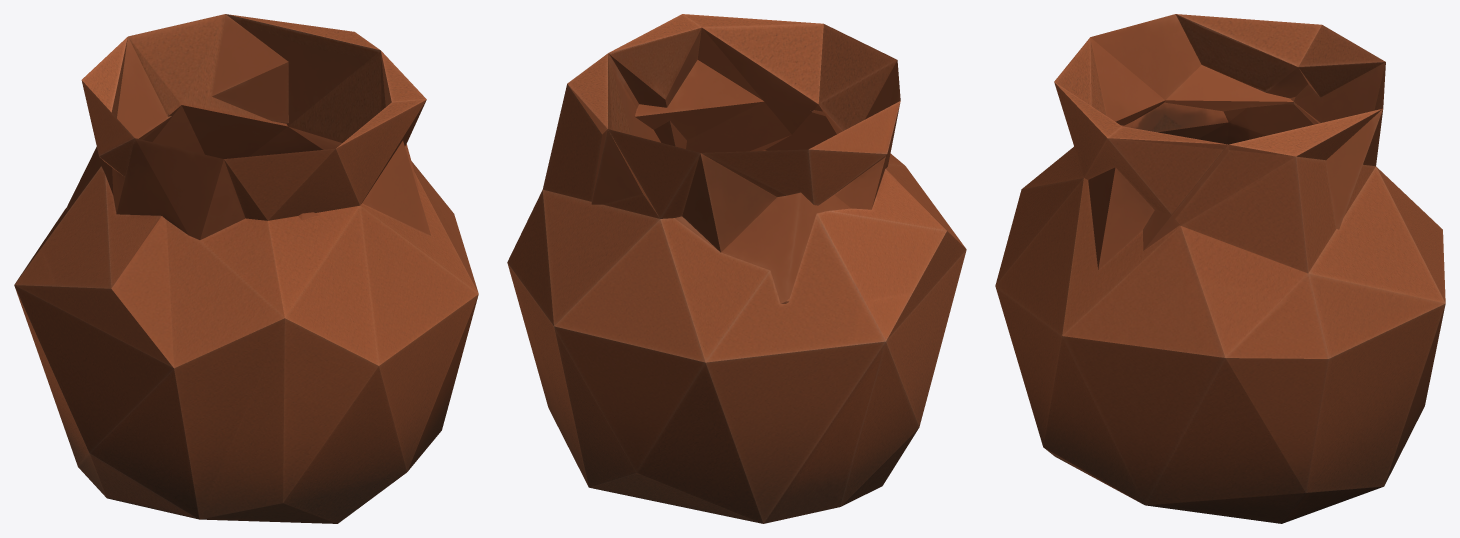
File: Meshy_AI_Faceted_Terracotta_Ve_0825055549_texture_Optimized.fbx
3 renders of one model, left to right at view 1: azimuth 30°, elevation 25°; view 2: azimuth 150°, elevation 25°; view 3: azimuth 270°, elevation 25°, orthographic. The views are drawn at different scales.
Visible parts, largest first — view 1: TerracottaVessel_Mesh; view 2: TerracottaVessel_Mesh; view 3: TerracottaVessel_Mesh.
Part boxes in pixels (x1,y1,x2,y2): TerracottaVessel_Mesh: (14,14,478,523); TerracottaVessel_Mesh: (507,14,966,523); TerracottaVessel_Mesh: (995,14,1445,523).
Size of the model in its own units: 0.9844 by 0.9004 by 0.9727.
1 material, 1 textured.
